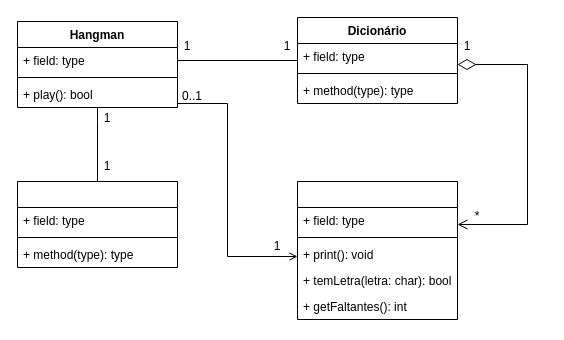
This 564x340 diagram has some shape labels left out. Each missing label, with the box of its shape:
Jogador: (16, 180, 178, 268)
Palavra: (296, 180, 458, 320)
